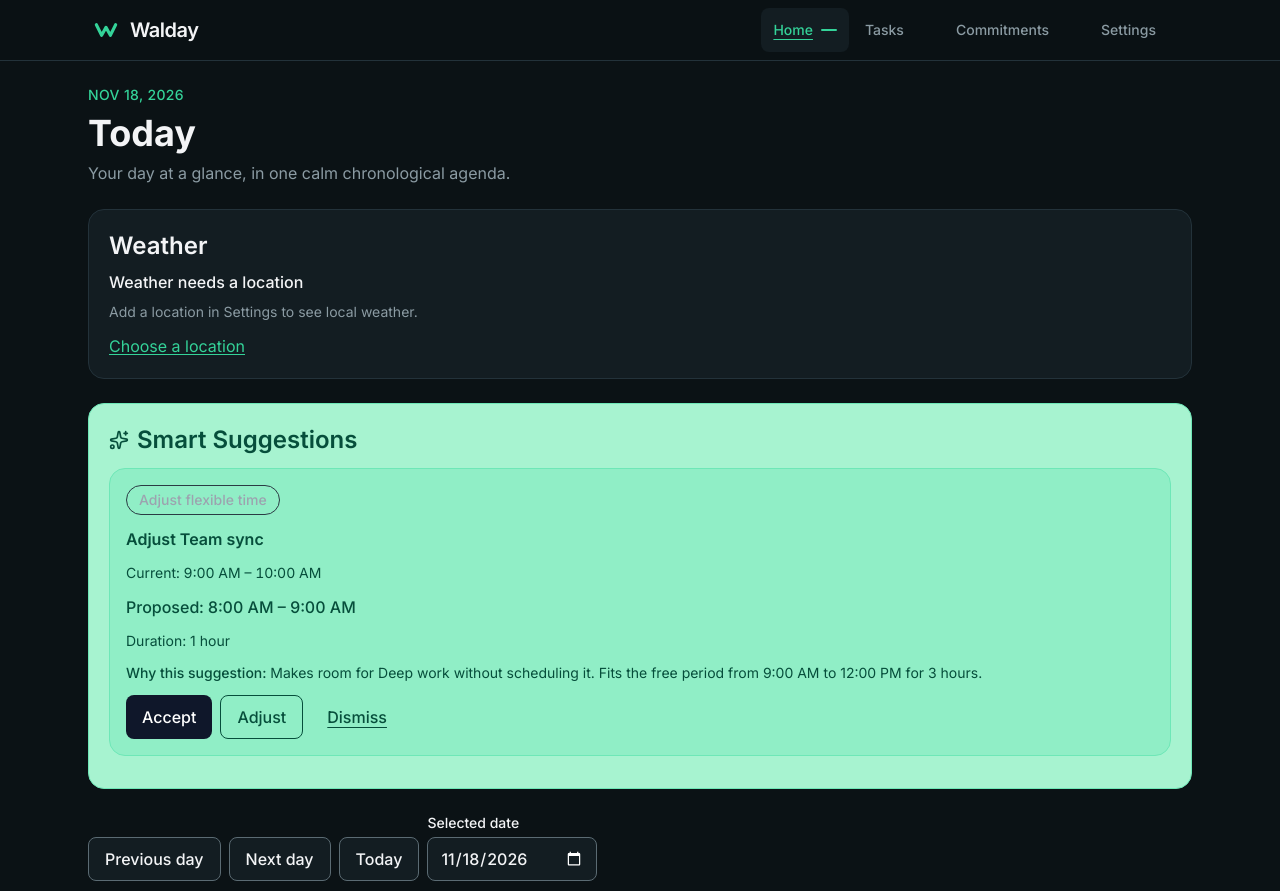
Test: Home suggestion slot and flexible flows (US2) › moves a flexible commitment to make room without scheduling the task
Expected: the heading "Today" is shown, x1=88 y1=111 x2=196 y2=155
Click the button with aria-label "Accept: move Team sync": (169, 717) x1=126 y1=695 x2=212 y2=739
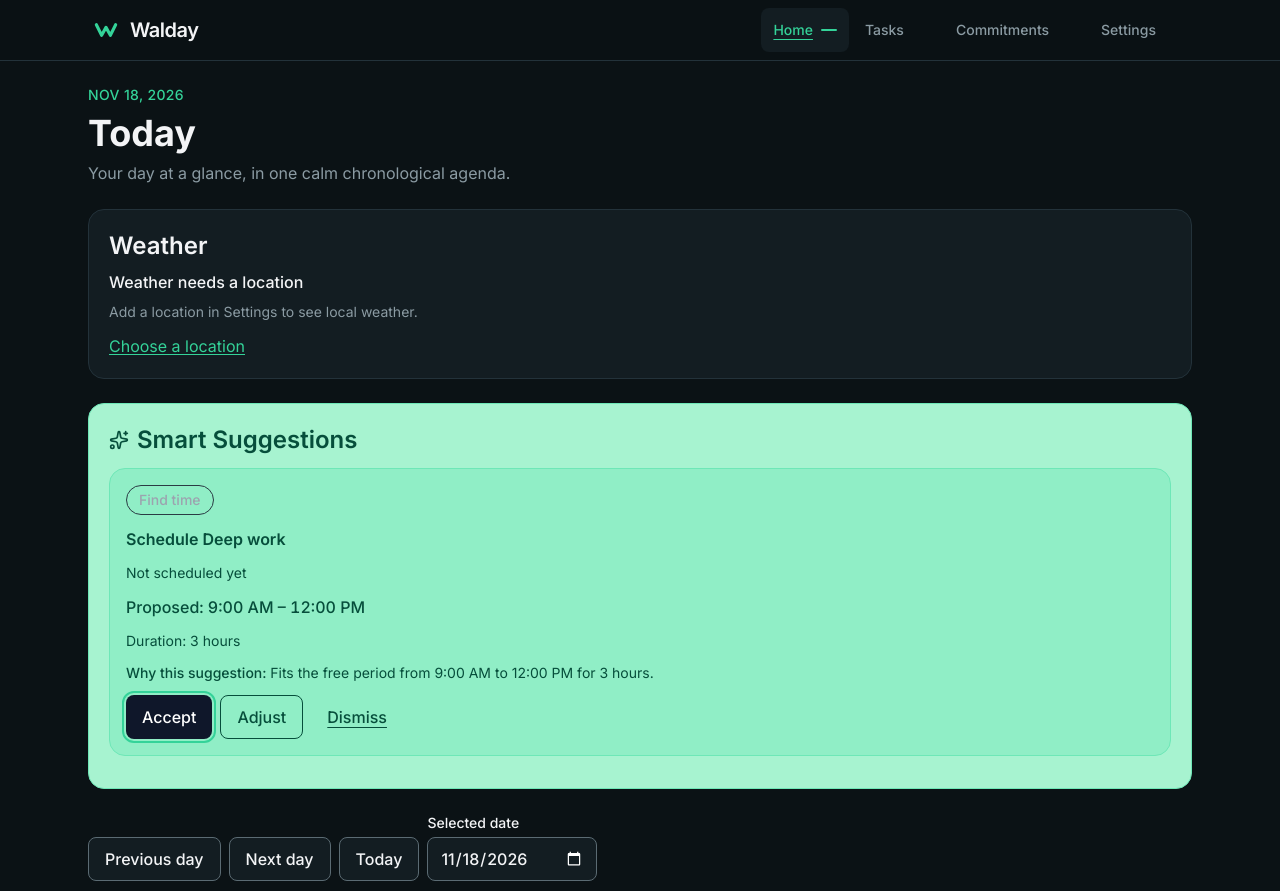
Now the button with aria-label "Accept: schedule Deep work" is shown, box x1=126 y1=695 x2=212 y2=739
